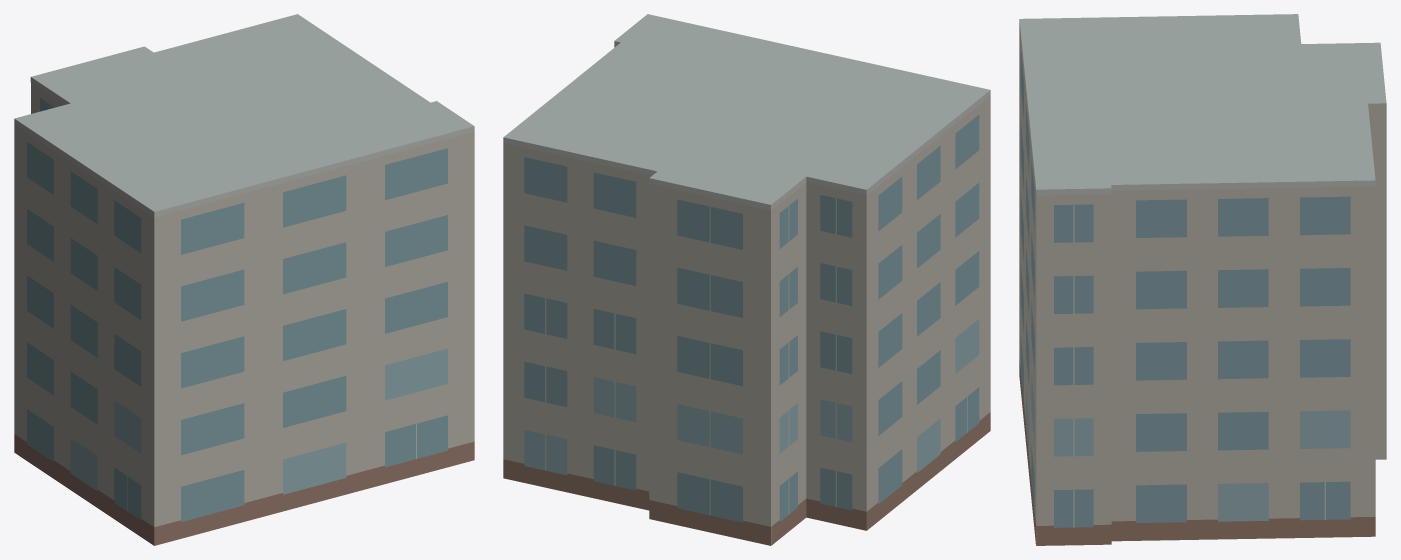
Rendered from survey-upis-32612379.glb.
3 views of the same model, side by side, from view 1: azimuth 30°, elevation 25°; view 2: azimuth 150°, elevation 25°; view 3: azimuth 270°, elevation 25° (orthographic). The views are drawn at different scales.
Visible parts, largest first — view 1: survey-upis-32612379.tmp; view 2: survey-upis-32612379.tmp; view 3: survey-upis-32612379.tmp.
Part boxes in pixels (box(x1,y1,x2,y2)): survey-upis-32612379.tmp: box(14, 14, 474, 545); survey-upis-32612379.tmp: box(503, 14, 990, 545); survey-upis-32612379.tmp: box(1019, 14, 1386, 545).
Bounding box in the file's own units: 15.76 × 14.9 × 13.93.
